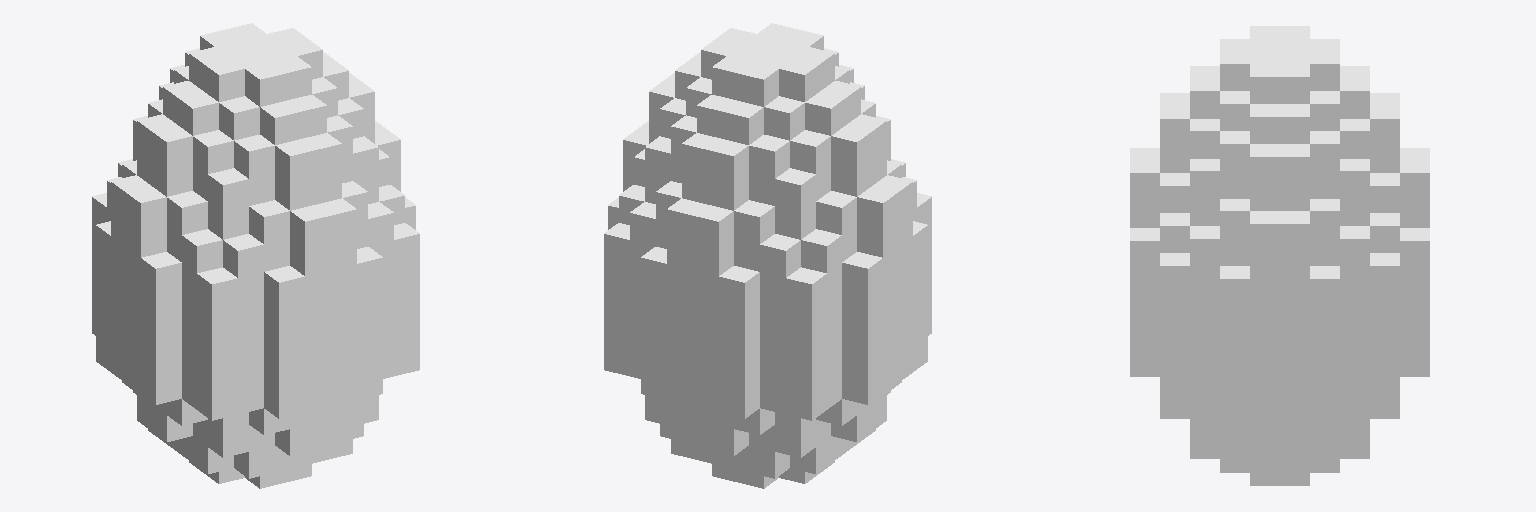
The model's file is Egges-1.obj.
3 views of the same model, side by side, from view 1: azimuth 30°, elevation 25°; view 2: azimuth 150°, elevation 25°; view 3: azimuth 270°, elevation 25° (orthographic).
Visible parts, largest first — view 1: object 1; view 2: object 1; view 3: object 1.
Part boxes in pixels (bbox=[...]): object 1: bbox=[92, 23, 419, 488]; object 1: bbox=[604, 23, 931, 488]; object 1: bbox=[1130, 26, 1429, 485].
Size of the model in its own units: 1 by 1.5 by 1.